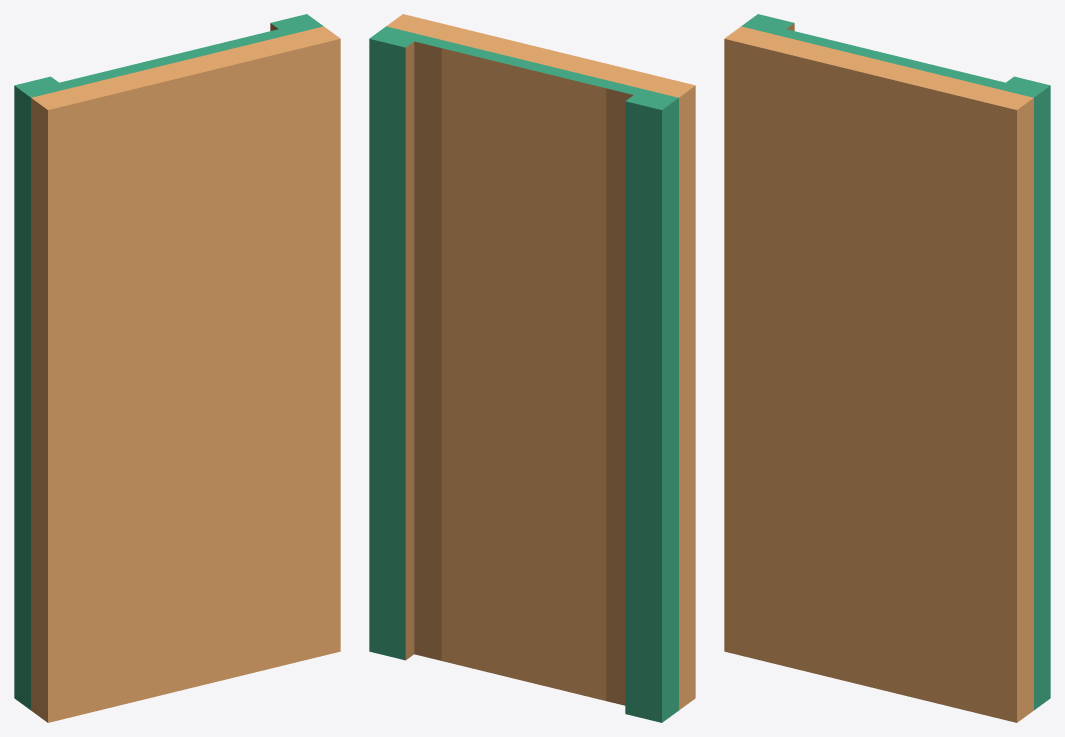
File: tile_straight.009.obj
3 views of the same model, side by side, from view 1: azimuth 30°, elevation 25°; view 2: azimuth 150°, elevation 25°; view 3: azimuth 330°, elevation 25° (orthographic).
Parts seen in each view (by area): view 1: tile_straight.007; view 2: tile_straight.007; view 3: tile_straight.007.
Part boxes in pixels (x1=…): tile_straight.007: x1=14, y1=14, x2=340, y2=722; tile_straight.007: x1=369, y1=14, x2=695, y2=722; tile_straight.007: x1=724, y1=14, x2=1050, y2=722.
Bounding box in the file's own units: 1 × 2 × 0.2.
